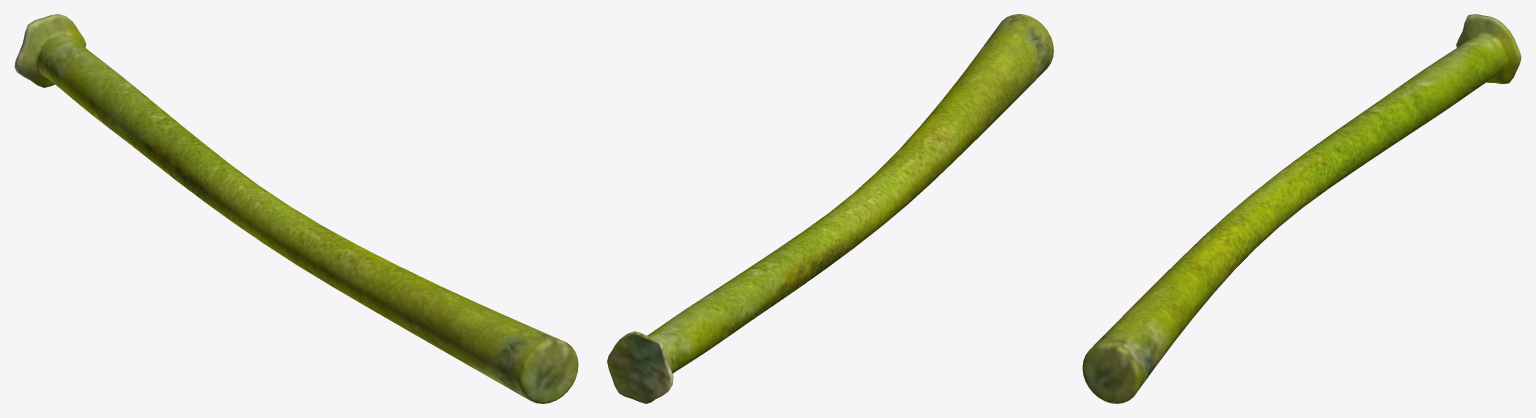
The model's file is CherryStalk.obj.
The picture shows the model from 3 angles, left to right: view 1: azimuth 30°, elevation 25°; view 2: azimuth 150°, elevation 25°; view 3: azimuth 330°, elevation 25°; orthographic projection. The views are drawn at different scales.
Visible parts, largest first — view 1: CherryStalk; view 2: CherryStalk; view 3: CherryStalk.
Part boxes in pixels (bbox=[...]): CherryStalk: bbox=[14, 14, 578, 403]; CherryStalk: bbox=[607, 14, 1053, 403]; CherryStalk: bbox=[1082, 14, 1521, 403].
Bounding box in the file's own units: 0.0061 × 0.00367 × 0.0428.
1 material, 1 textured.
